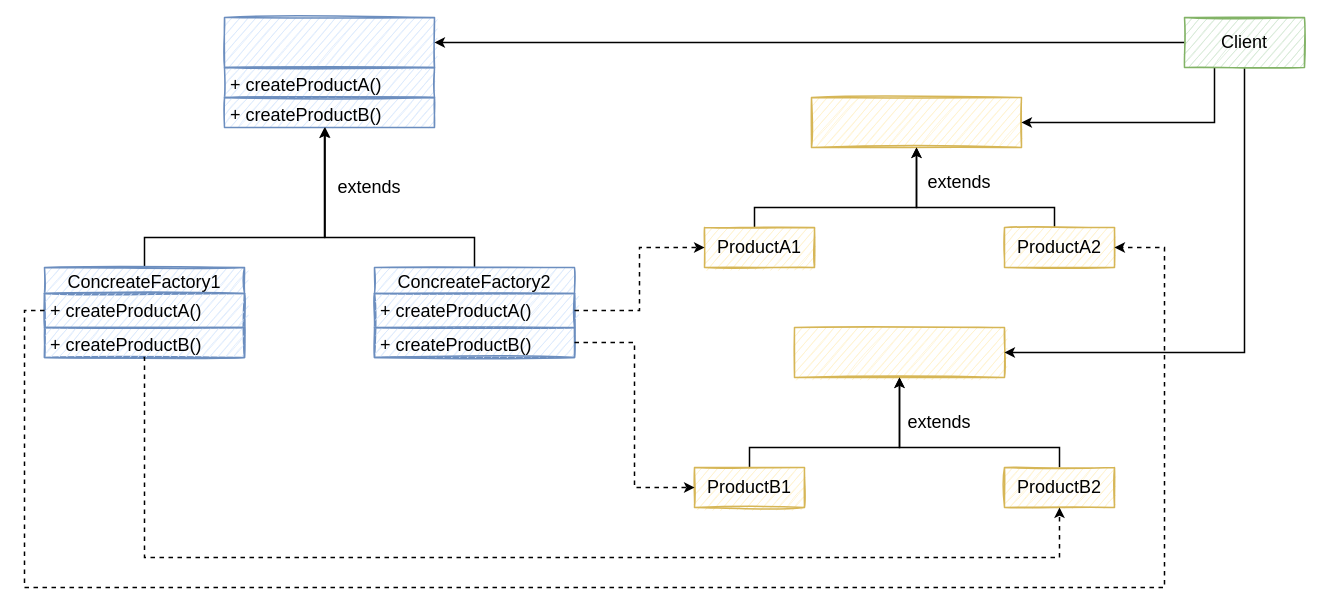
This 1323x614 diagram has some shape labels left out. Each missing label, with the centre of its shape:
"«interface» AbstractFactory" goes at [329,42].
"«interface» AbstractProductA" goes at [916,122].
"«interface» AbstractProductB" goes at [899,352].
